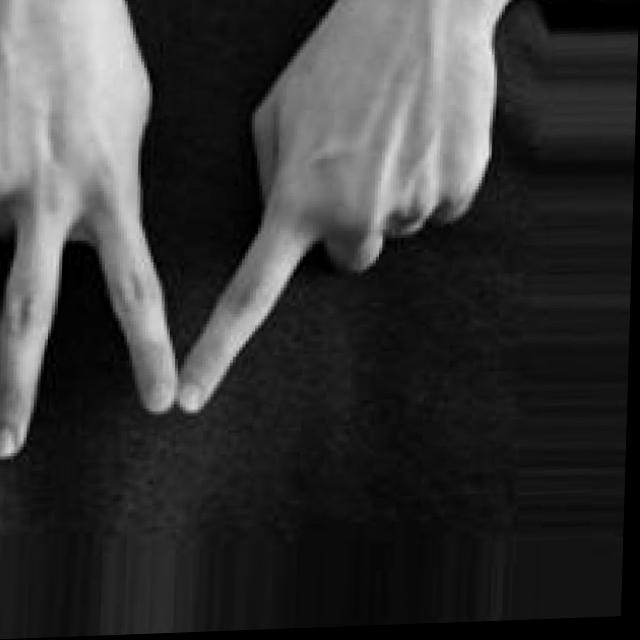N: (0, 0, 531, 463)
